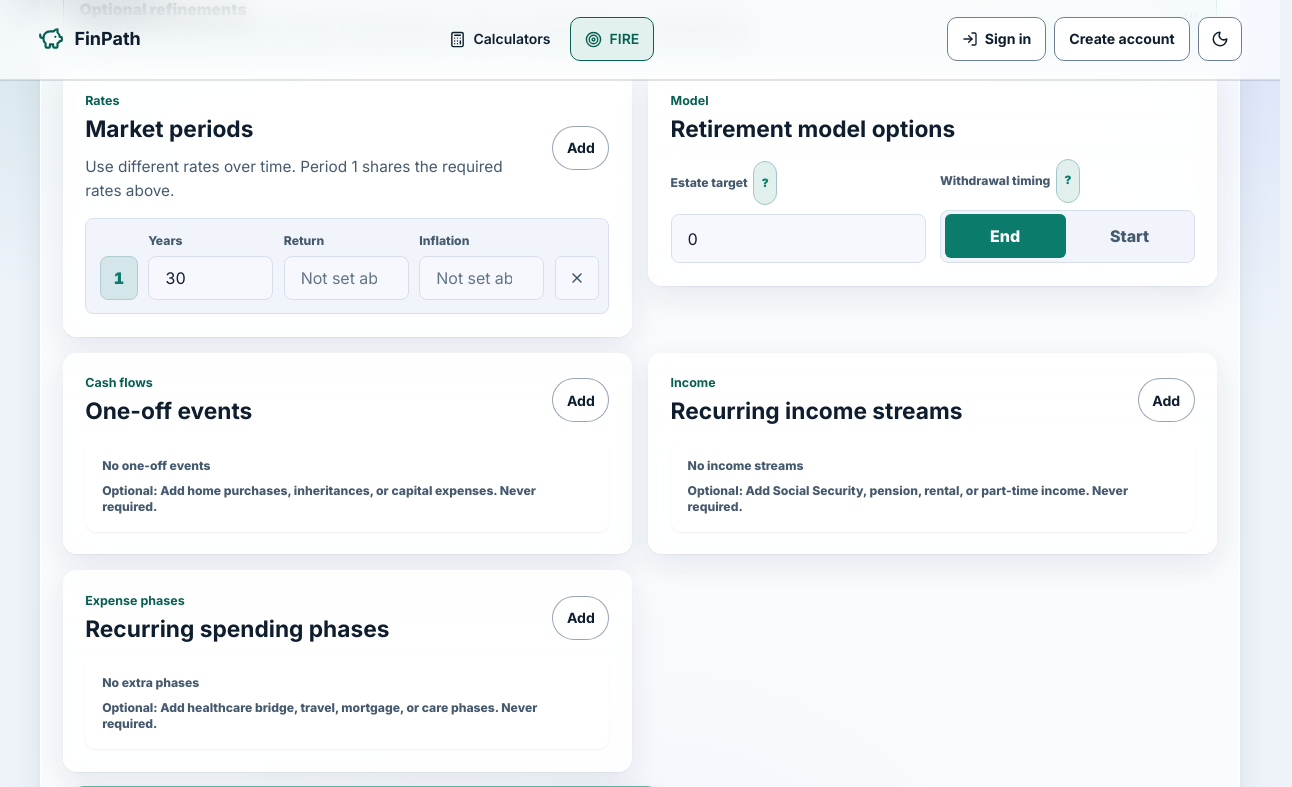
B35 FIRE Assumptions Transparency & Controls Architecture › 6. Empty states offer Add buttons and new rows start with zero amounts requiring user entry
The image size is (1292, 787).
(page scrolled)
Click the button with class "secondary-button" in the row of "Cash flows": coordinates (581, 400) 552,378 -> 609,422
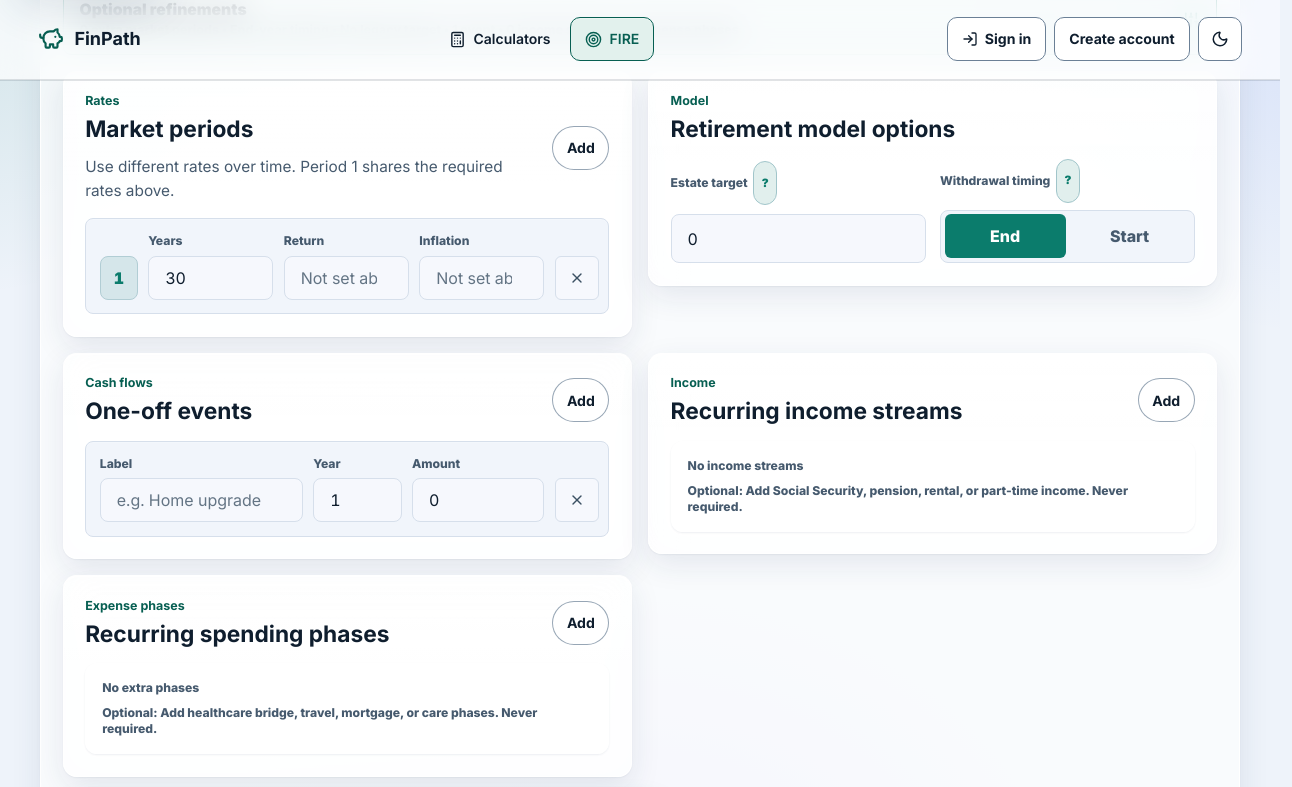
Click the button with class "secondary-button" in the row of "Recurring income streams": coordinates (1166, 400) 1138,378 -> 1195,422
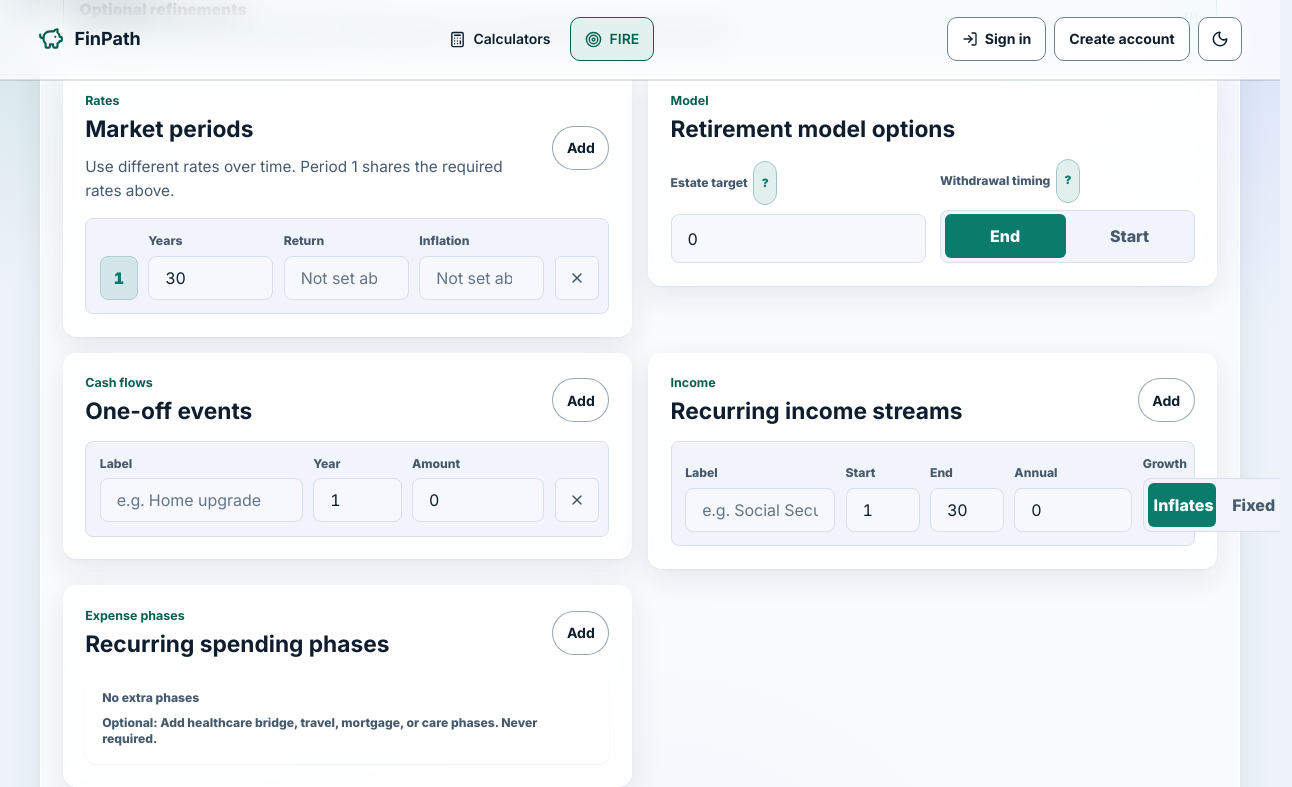
Result: the number field labelled "Annual" is shown at 1014,488 -> 1132,532
